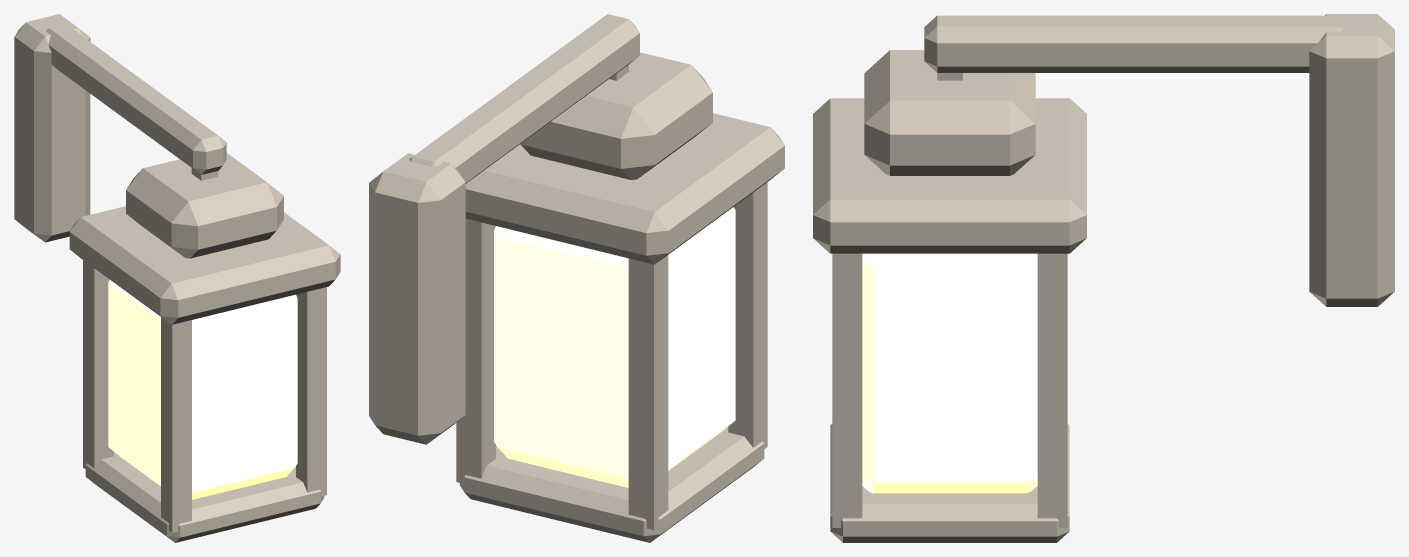
File: SM_VK_Prop_Lantern.fbx
The picture shows the model from 3 angles, left to right: view 1: azimuth 30°, elevation 25°; view 2: azimuth 150°, elevation 25°; view 3: azimuth 270°, elevation 25°; orthographic projection. The views are drawn at different scales.
Visible parts, largest first — view 1: SM_VK_Prop_Lantern.001; view 2: SM_VK_Prop_Lantern.001; view 3: SM_VK_Prop_Lantern.001.
Boxes of the visible parts, x1,y1,x2,y2 form: SM_VK_Prop_Lantern.001: (14, 14, 340, 542); SM_VK_Prop_Lantern.001: (369, 14, 784, 542); SM_VK_Prop_Lantern.001: (813, 14, 1394, 542).
Size of the model in its own units: 0.32 by 0.615 by 0.68.
